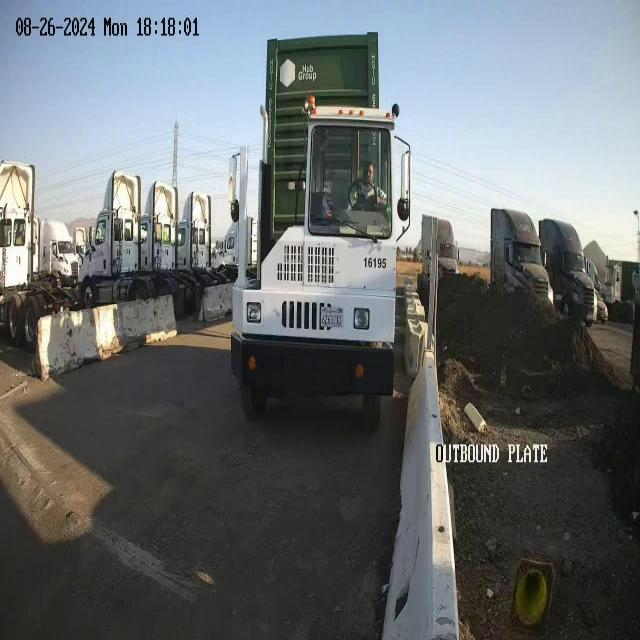TRUCK_OUT: (227, 30, 412, 430)
